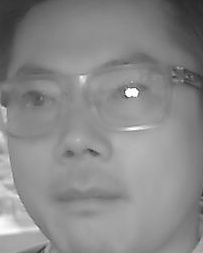glass: (85, 62, 169, 131), (1, 75, 65, 136)
mouth: (51, 180, 122, 216)
